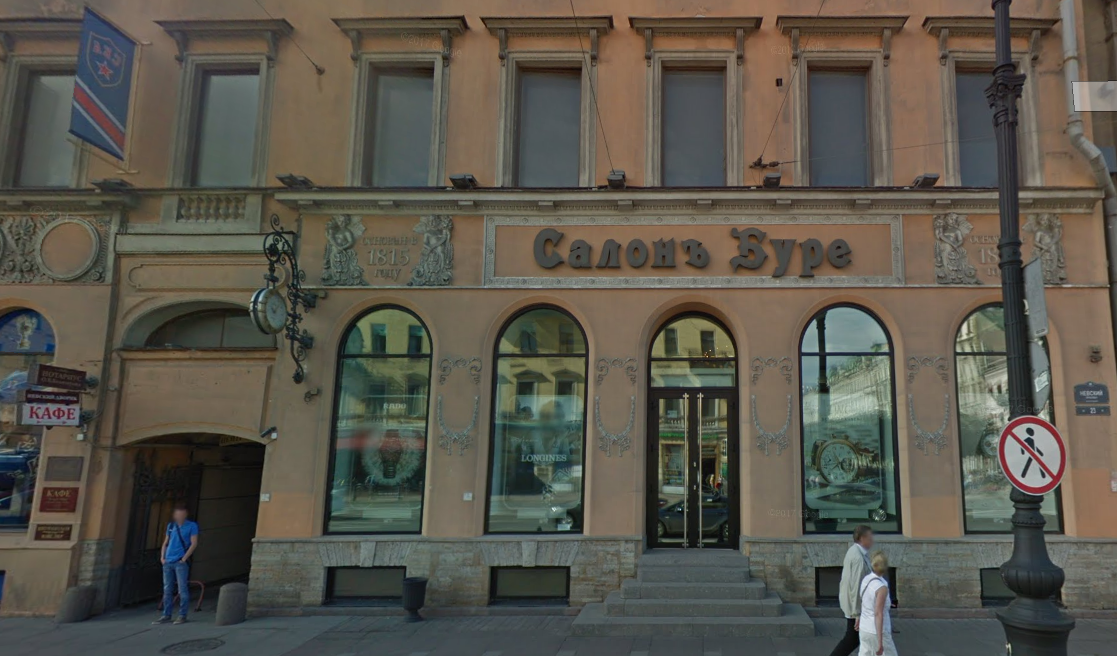arch: (113, 426, 263, 617)
cantilever: (60, 6, 153, 180), (18, 355, 98, 437)
door: (651, 389, 737, 551)
signboard: (525, 217, 859, 289)
window: (486, 295, 590, 534), (339, 300, 444, 536), (798, 299, 899, 532), (953, 295, 1010, 531), (803, 53, 874, 189), (658, 58, 727, 189), (364, 63, 435, 188), (509, 62, 578, 189), (642, 309, 740, 389), (195, 66, 256, 186), (22, 66, 75, 184), (954, 64, 1001, 191)
